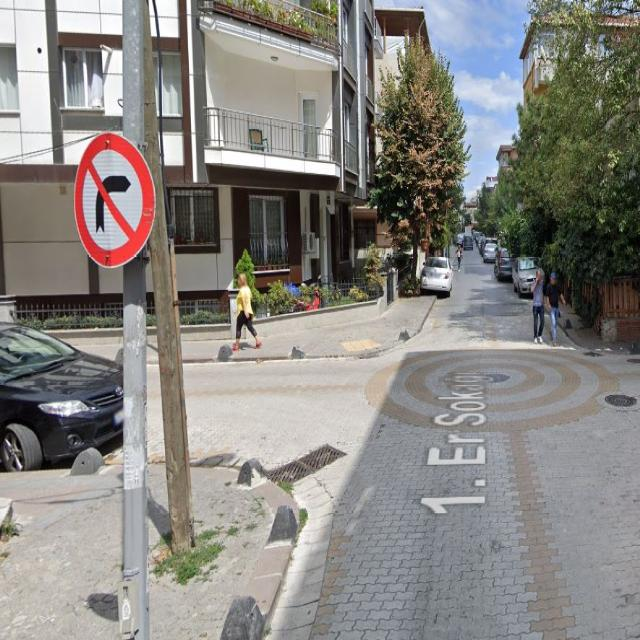sagadonulmez: (74, 134, 157, 268)
